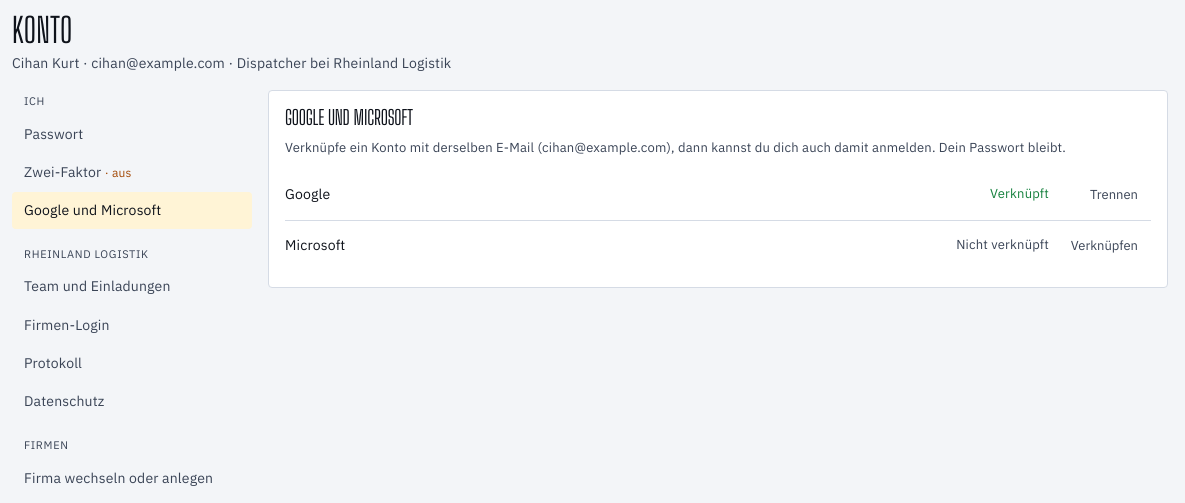
account page › removes the own Google link
The width and height of the screenshot is (1185, 503).
Check: the text "Verknüpft" is shown, box [990,185,1049,204]
Check: the text "Nicht verknüpft" is shown, box [956,236,1049,255]
Click the button with aria-label "Google trennen" at (1114, 194), box [1077,178,1151,212]
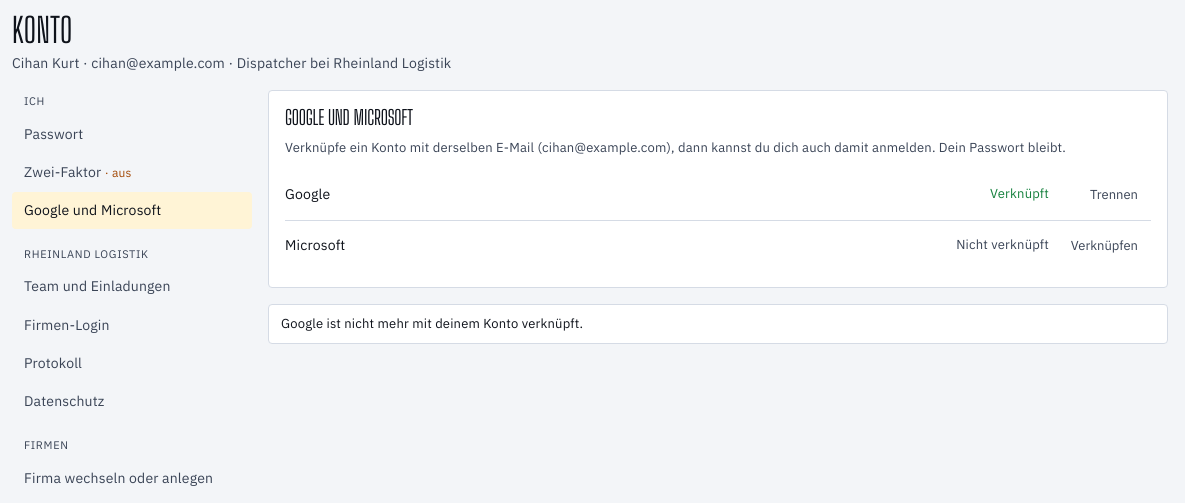
Check: the text "Google ist nicht mehr mit deinem Konto verknüpft." is shown, box [268,304,1168,344]
